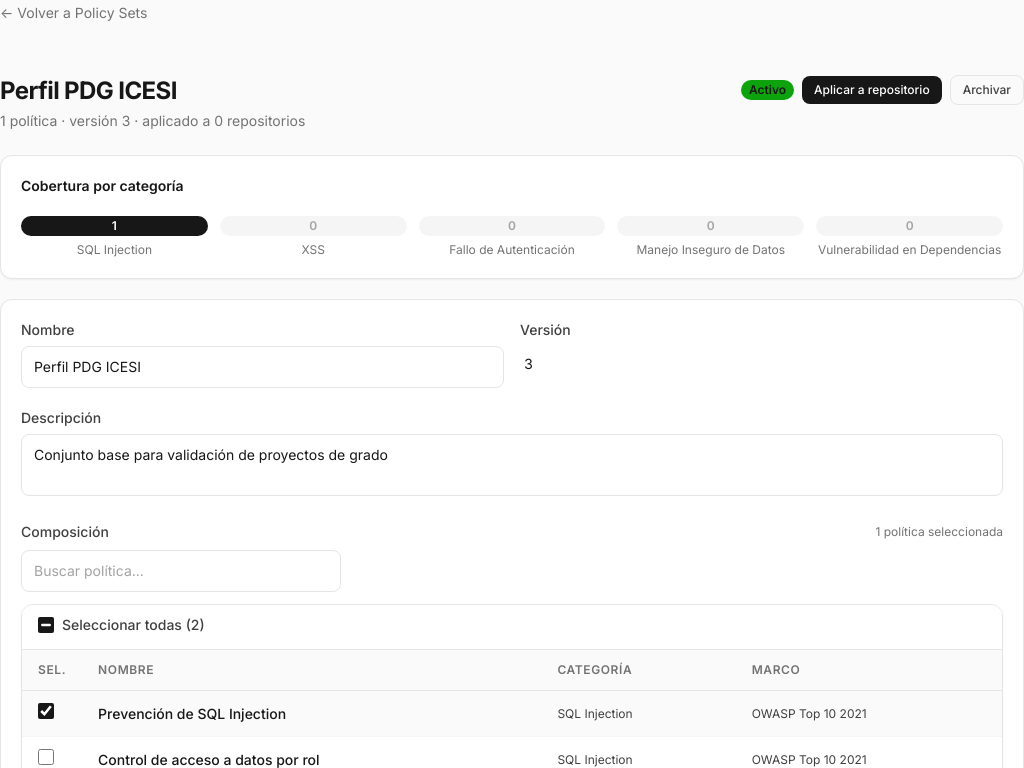
Test: PolicySetDetailPage lifecycle UI › after archiving succeeds, the badge updates to Archivado and editing is disabled
The width and height of the screenshot is (1024, 768).
Expected: the message named "estado: activo" is shown, [741,80,794,100]
Click the button "Archivar".
click(987, 90)  # box [950,75,1023,105]
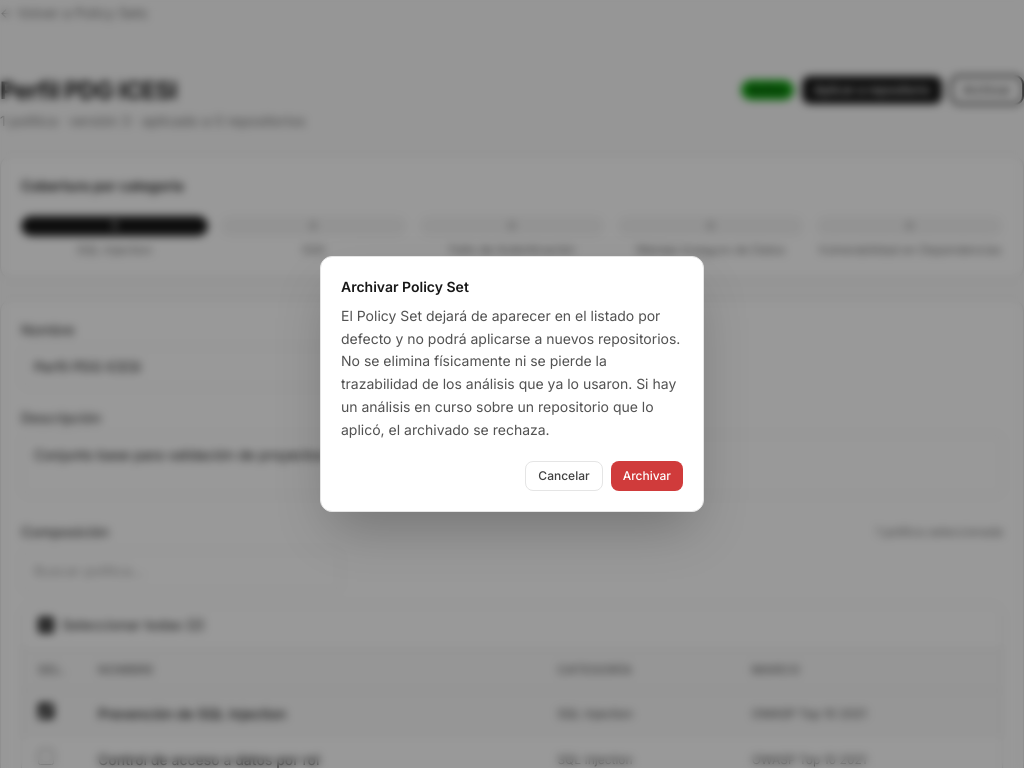
Click the button "Archivar".
click(647, 476)  # box [611,461,683,491]
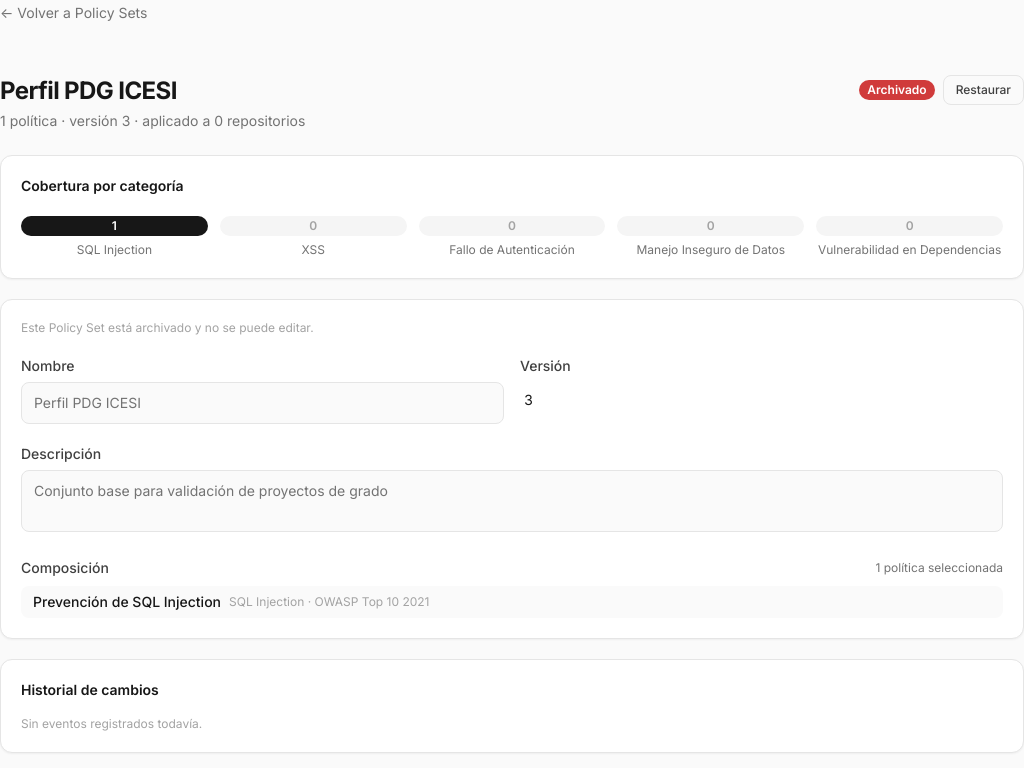
Expected: the message named "estado: archivado" is shown, [859,80,935,100]
Expected: the button "Archivar" is gone
Expected: the field labelled "Nombre" is disabled, [21,382,504,424]
